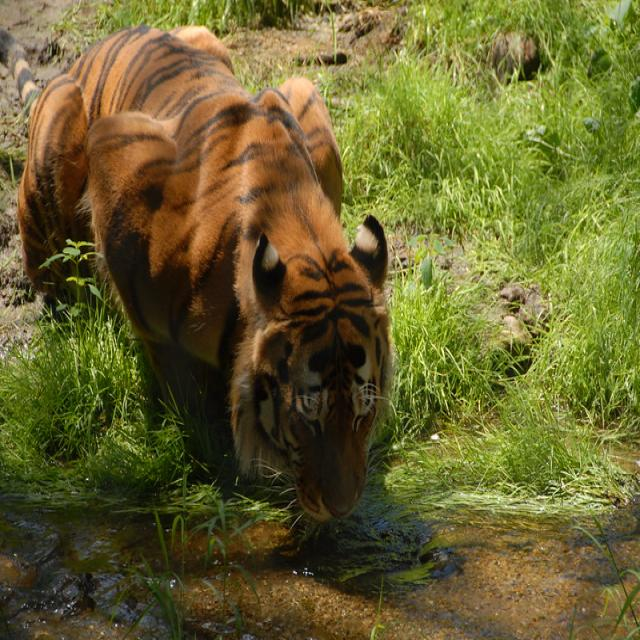Tiger: (13, 22, 390, 524)
